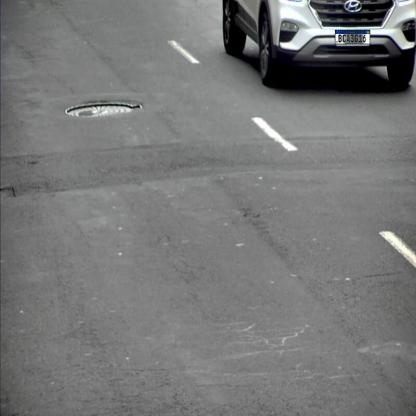PlacaM: (335, 30, 370, 44)
